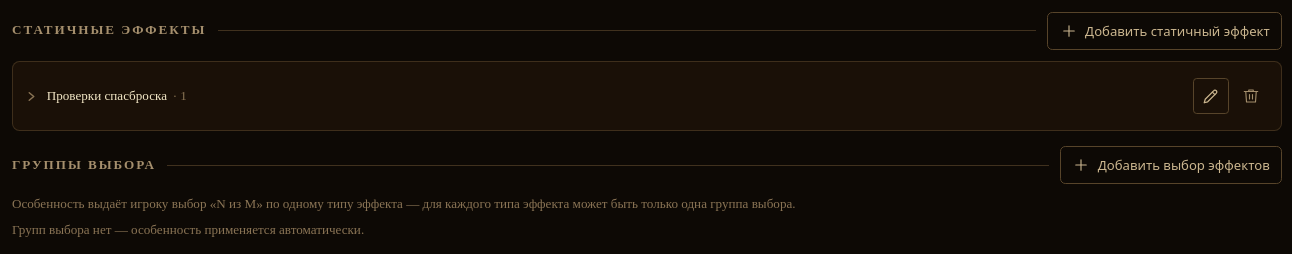
Test case: FeatureEffectsEditor › removes a static effect group via Удалить without opening the modal
Expected: the text "Проверки спасброска· 1" is shown, [47,87,187,105]
Click the button named "Удалить".
click(1251, 96)  # box [1232,77,1270,115]
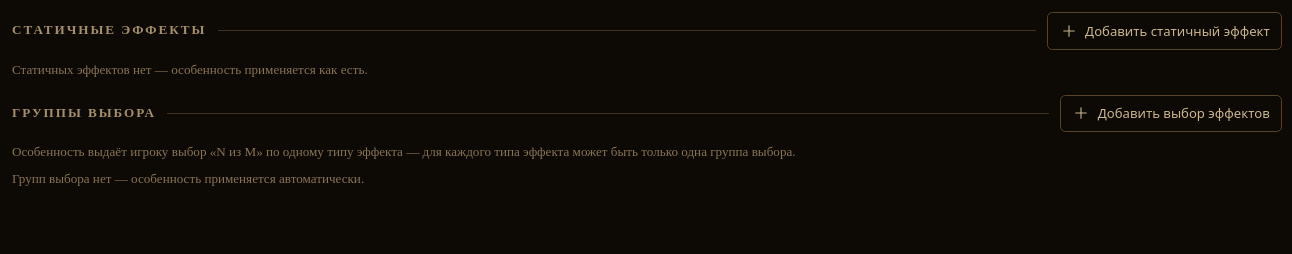
Result: the text "Статичных эффектов нет — особенность применяется как есть." is shown at [12,62,368,77]
